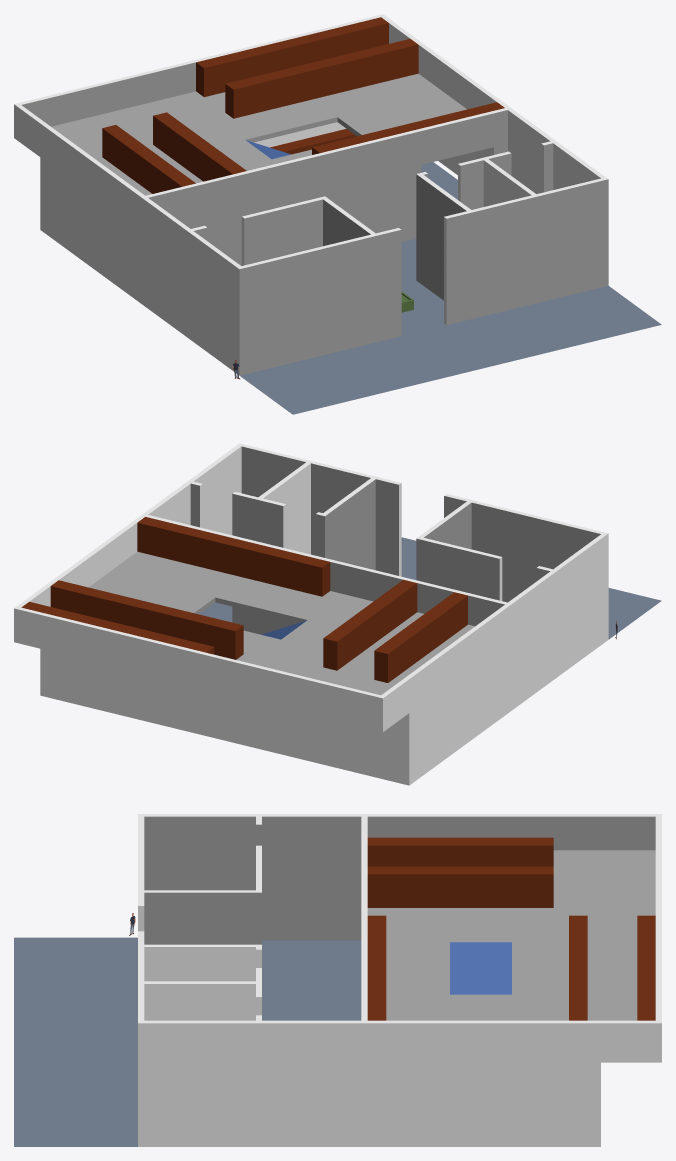
The model's file is centro comercial.fbx.
3 views of the same model, one above another, from view 1: azimuth 30°, elevation 25°; view 2: azimuth 150°, elevation 25°; view 3: azimuth 270°, elevation 25° (orthographic). The views are drawn at different scales.
Visible parts, largest first — view 1: Model; view 2: Model; view 3: Model.
Part boxes in pixels (x1,y1,x2,y2): Model: [14, 14, 661, 414]; Model: [14, 443, 661, 785]; Model: [14, 814, 661, 1146].
Bounding box in the file's own units: 40.77 × 11 × 52.23.
